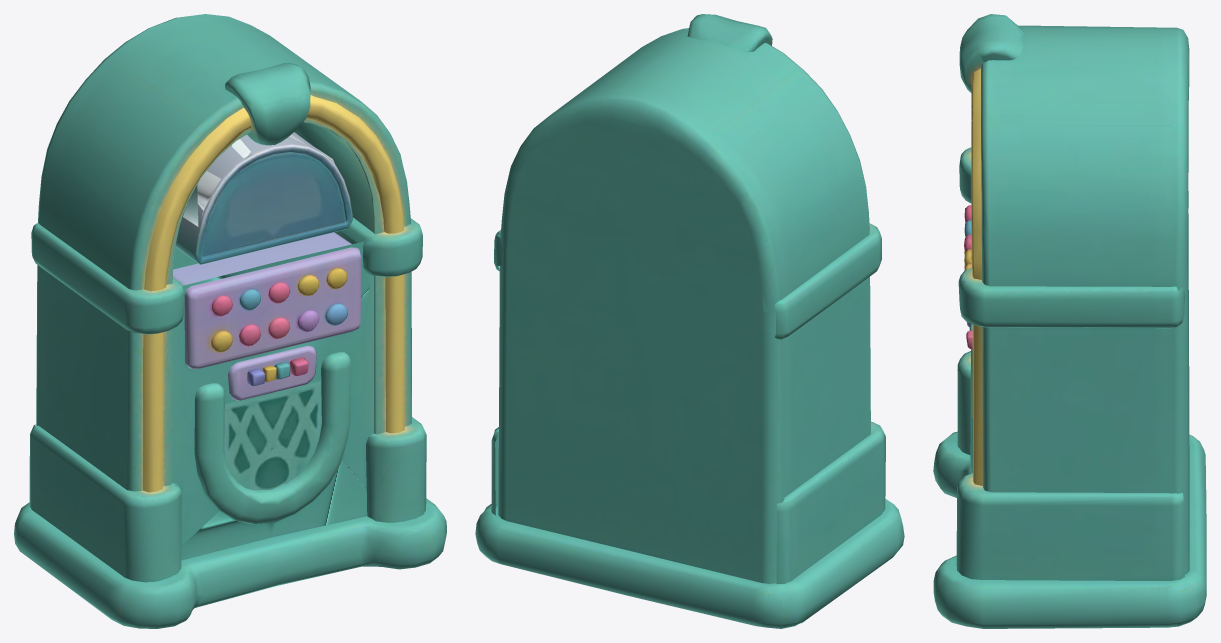
File: jukebox.glb
3 views of the same model, side by side, from view 1: azimuth 30°, elevation 25°; view 2: azimuth 150°, elevation 25°; view 3: azimuth 270°, elevation 25° (orthographic). The views are drawn at different scales.
Parts seen in each view (by area): view 1: geometry_0; view 2: geometry_0; view 3: geometry_0.
Boxes of the visible parts, left/top/right/bottom form: geometry_0: left=14, top=14, right=446, bottom=628; geometry_0: left=475, top=14, right=904, bottom=628; geometry_0: left=933, top=14, right=1206, bottom=628.
Size of the model in its own units: 0.6894 by 1 by 0.4771.
1 material, 1 textured.
